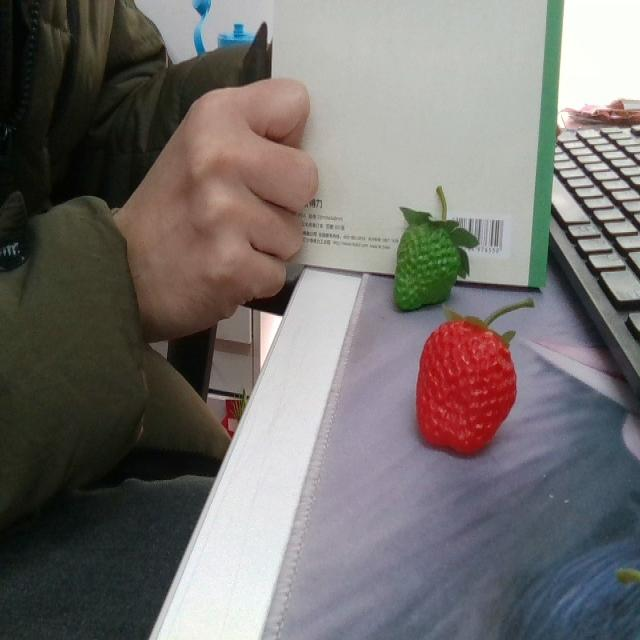mature: (410, 315, 517, 453), (380, 211, 462, 309)
